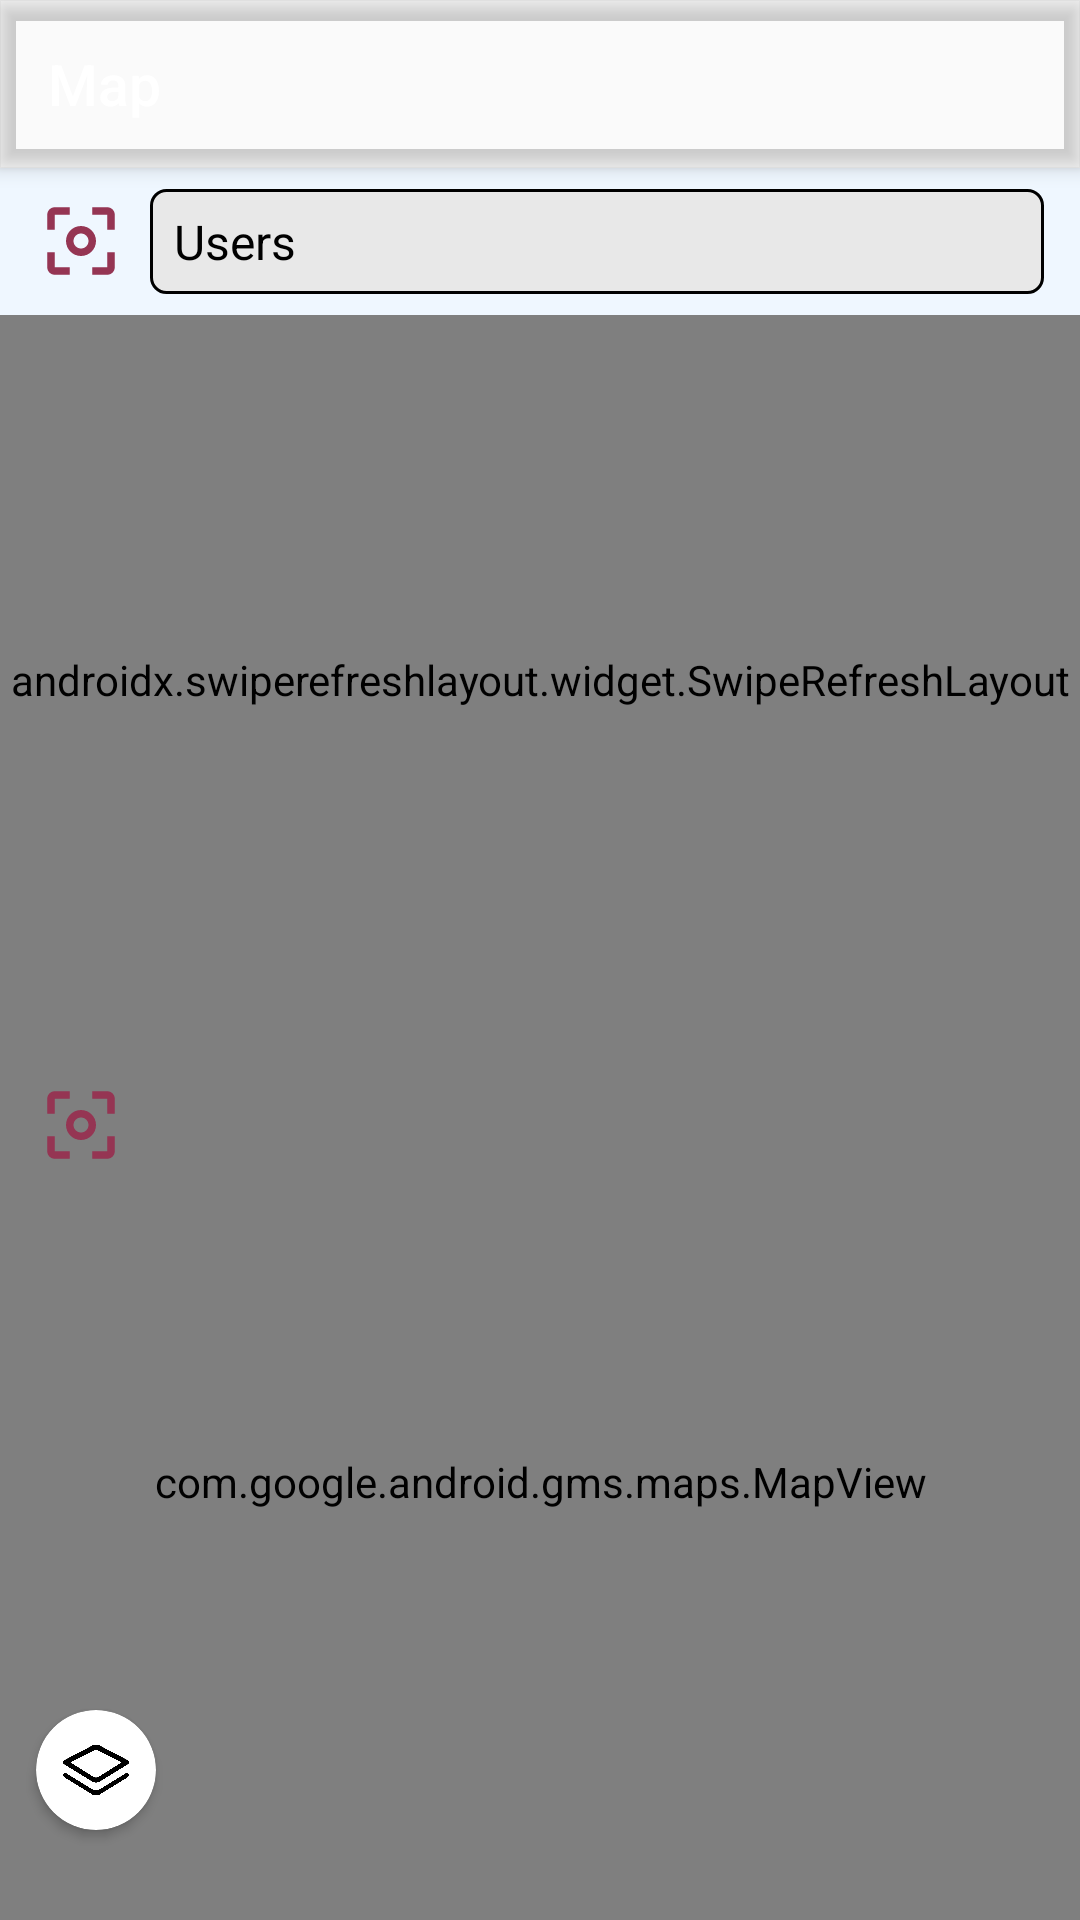

Screen size 1080 x 1920. Icon name, then its box in pixels as (x1, y1, x2, y2):
layers: (63, 1745, 129, 1795)
